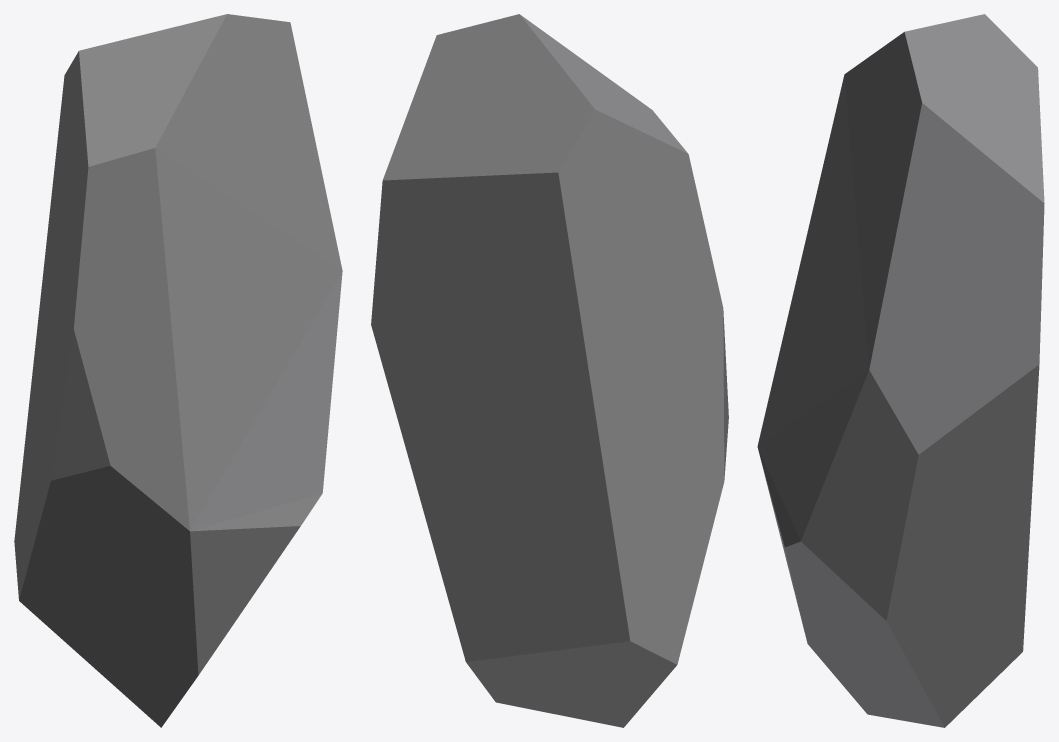
The model's file is Rock_02.glb.
The picture shows the model from 3 angles, left to right: view 1: azimuth 30°, elevation 25°; view 2: azimuth 150°, elevation 25°; view 3: azimuth 270°, elevation 25°; orthographic projection. The views are drawn at different scales.
Visible parts, largest first — view 1: Rock_02; view 2: Rock_02; view 3: Rock_02.
Boxes of the visible parts, x1,y1,x2,y2 form: Rock_02: [14, 14, 342, 727]; Rock_02: [371, 14, 728, 727]; Rock_02: [757, 14, 1044, 727].
Size of what is drawn, in the model's own units: 1.95 by 4.41 by 1.58.
Materials: 1 (1 with a texture image).
